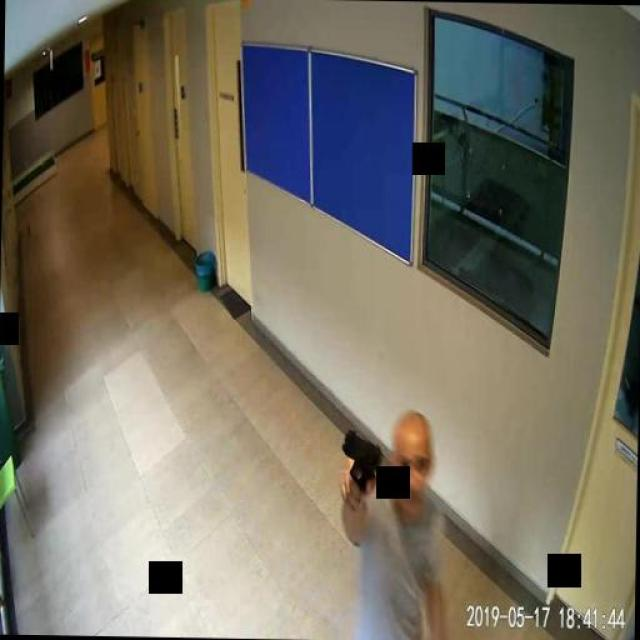gun: (340, 426, 381, 499)
